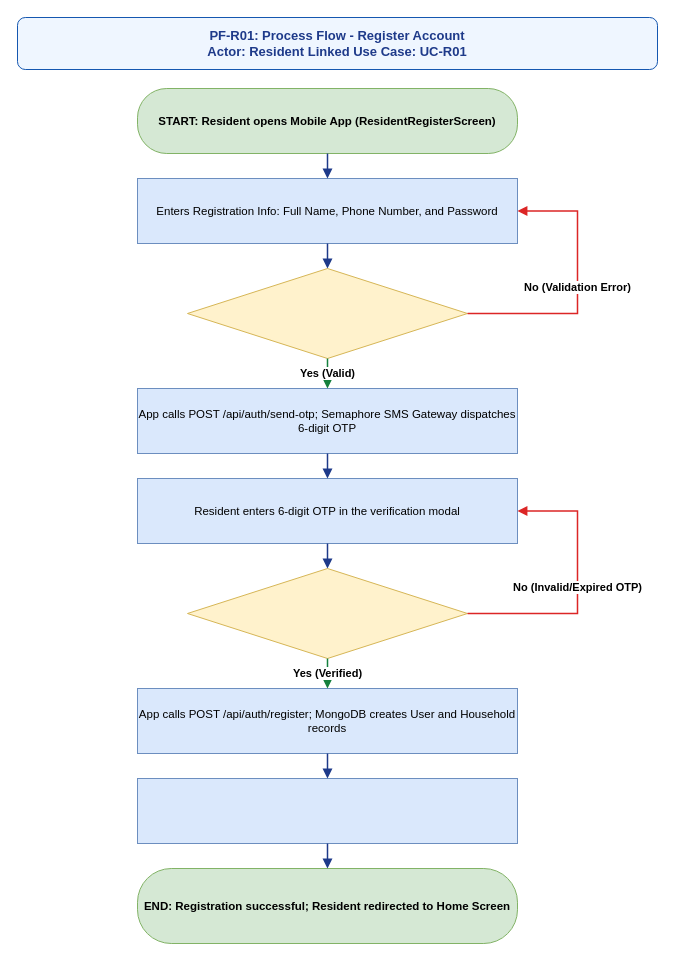
Image size: 675x961. Some labels were removed from this diagram. Here are the shapes that lost their labels. From the top down, the box of each, then its label:
(186, 268, 468, 358): Phone format valid & password >= 6 chars?
(186, 568, 468, 658): OTP matches hash & not expired in DB?
(136, 778, 518, 844): JWT token issued & stored in AsyncStorage (status: pending_verification)
